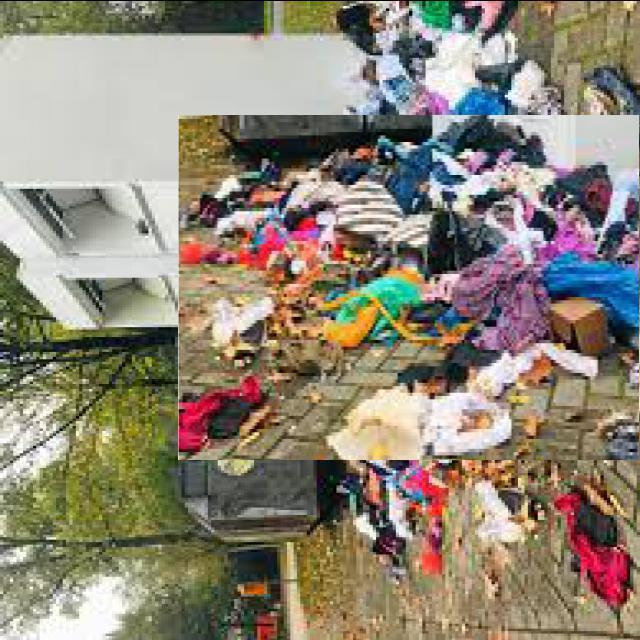Anorganik: (235, 57, 639, 518)
